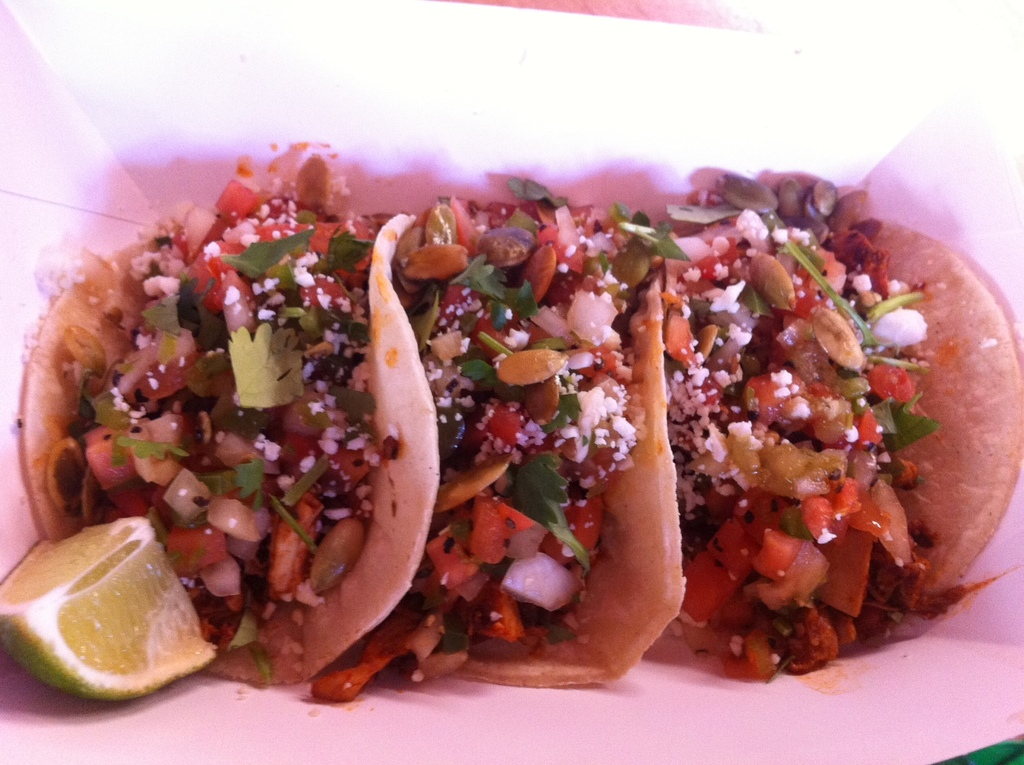taco: (25, 106, 1023, 692)
